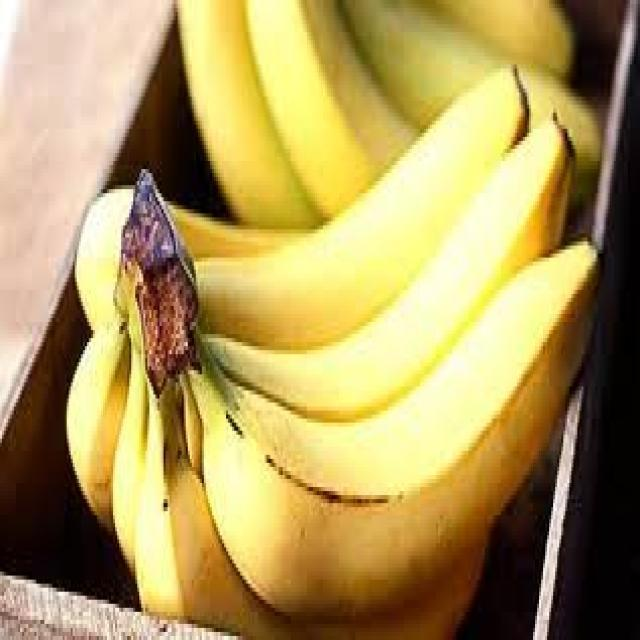Banana: (64, 60, 602, 636), (173, 0, 601, 229)
